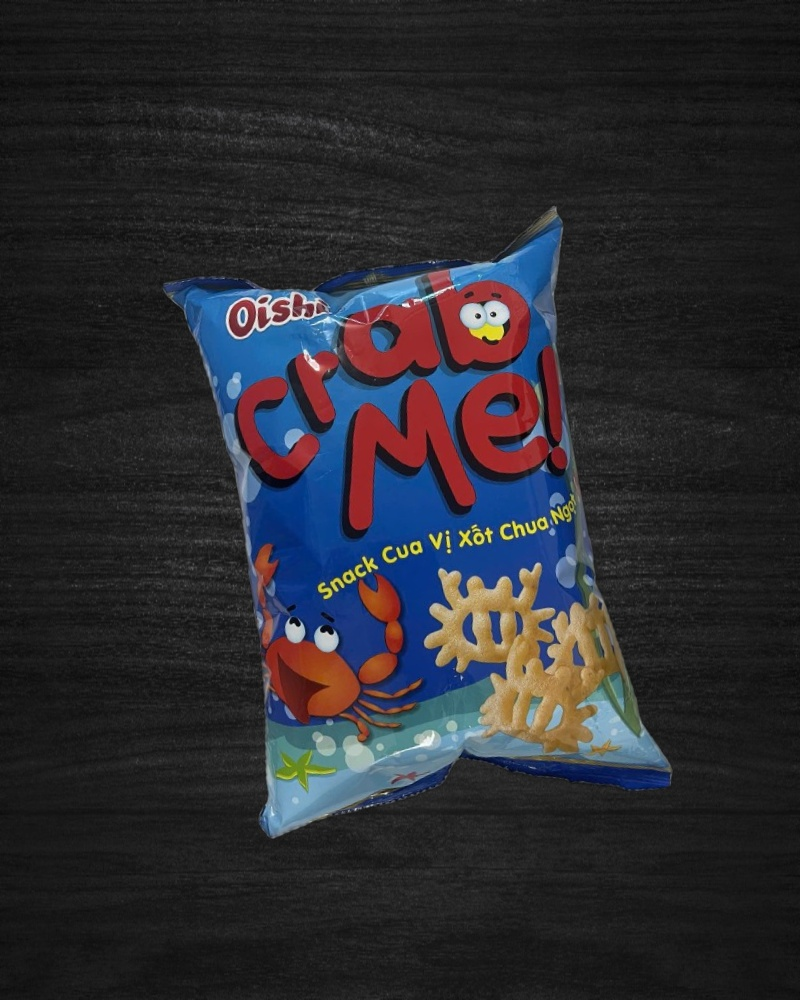Snack cua: (161, 203, 675, 853)
